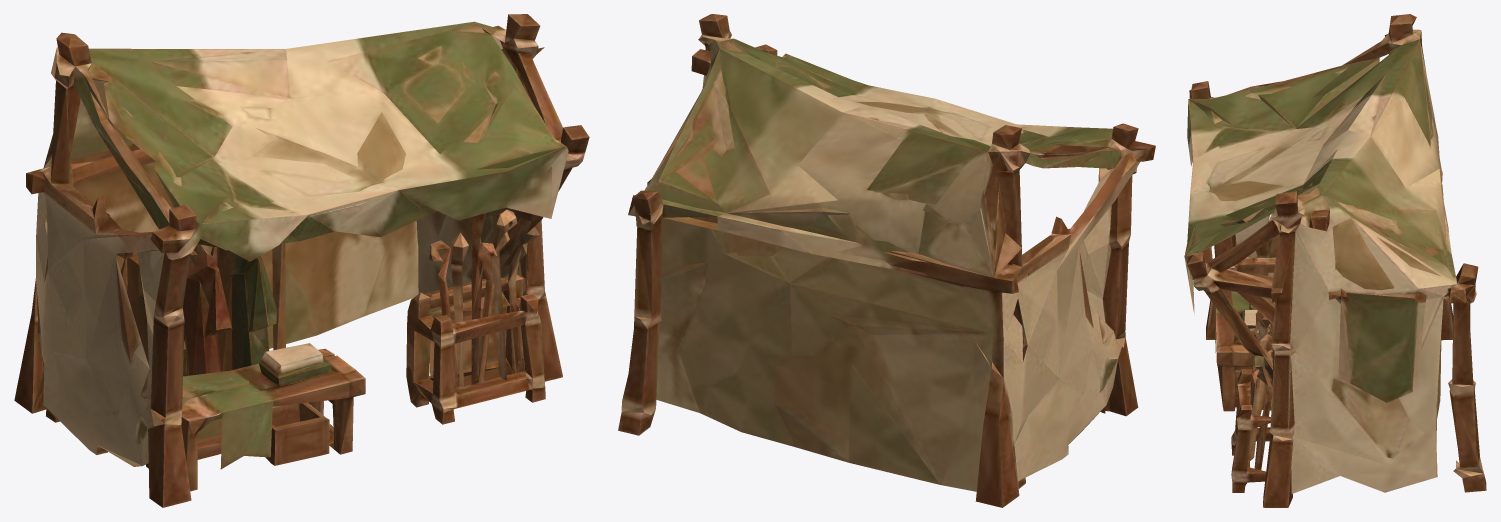
The model's file is alpha-shop.glb.
The picture shows the model from 3 angles, left to right: view 1: azimuth 30°, elevation 25°; view 2: azimuth 150°, elevation 25°; view 3: azimuth 270°, elevation 25°; orthographic projection. The views are drawn at different scales.
Size of the model in its own units: 1.9 by 1.55 by 1.32.
Materials: 1 (1 with a texture image).
